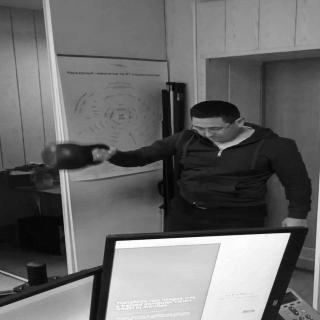kettlebell: (45, 142, 111, 171)
